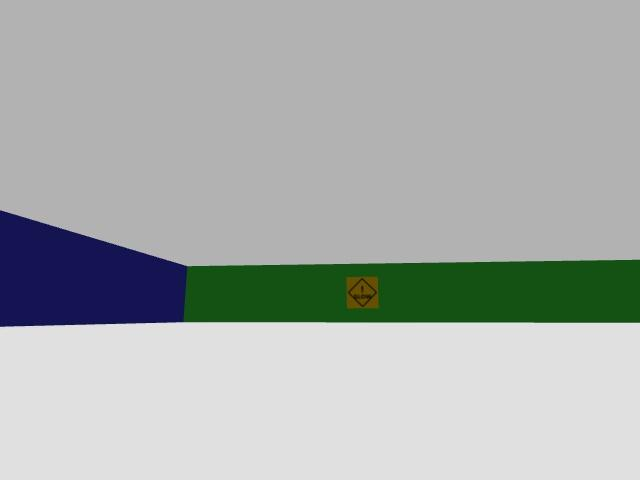slow: (347, 277, 378, 307)
